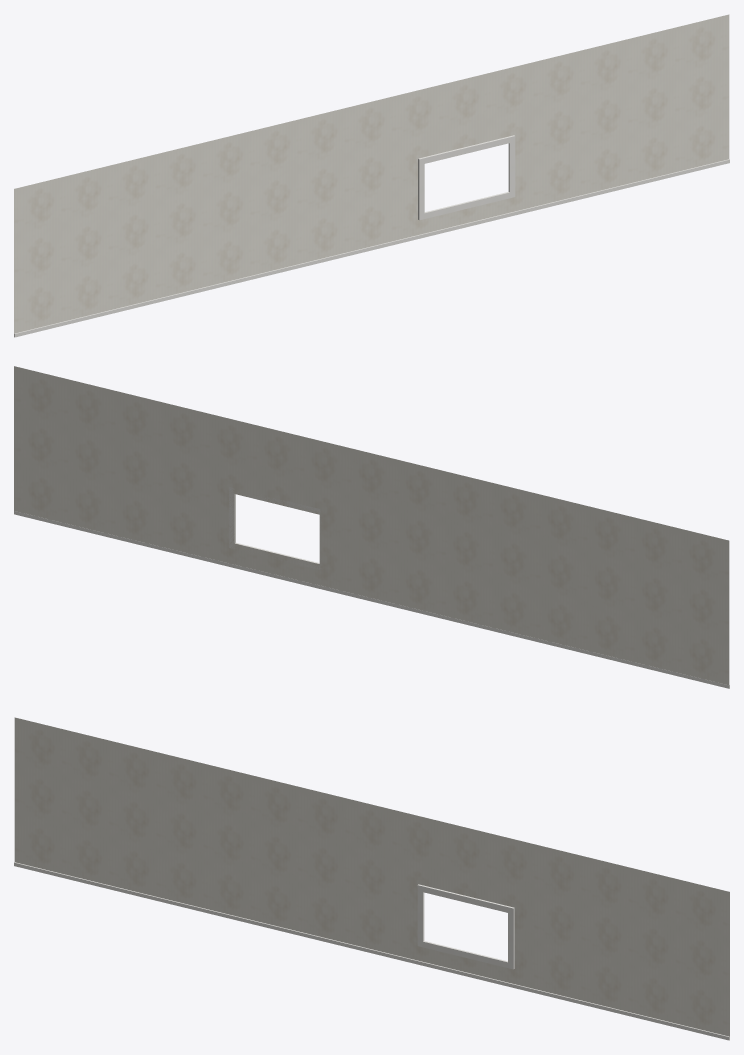
3 renders of one model, top to bottom at view 1: azimuth 30°, elevation 25°; view 2: azimuth 150°, elevation 25°; view 3: azimuth 330°, elevation 25°, orthographic.
Parts seen in each view (by area): view 1: jx_wm_30_d9e73ce0; view 2: jx_wm_30_d9e73ce0; view 3: jx_wm_30_d9e73ce0.
Part boxes in pixels (<box>): jx_wm_30_d9e73ce0: <box>14,14,729,337</box>; jx_wm_30_d9e73ce0: <box>14,366,729,688</box>; jx_wm_30_d9e73ce0: <box>14,717,729,1040</box>.
Bounding box in the file's own units: 30.3 × 6 × 0.086.
2 materials, 2 textured.
